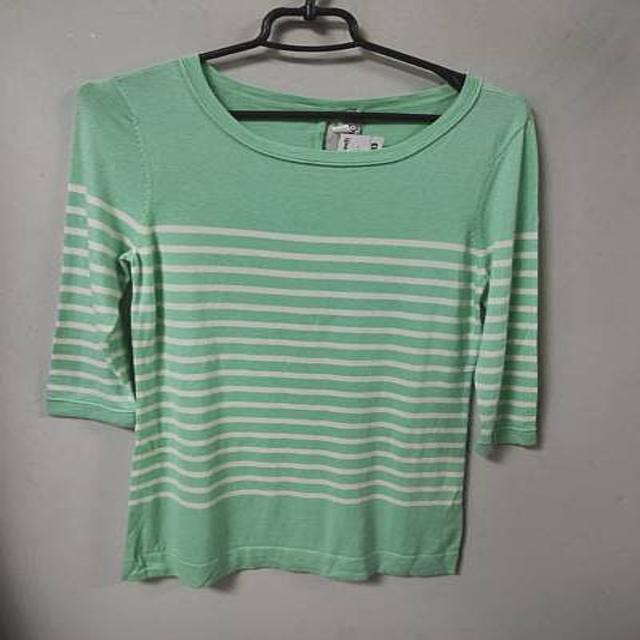SHIRT: (33, 42, 564, 598)
